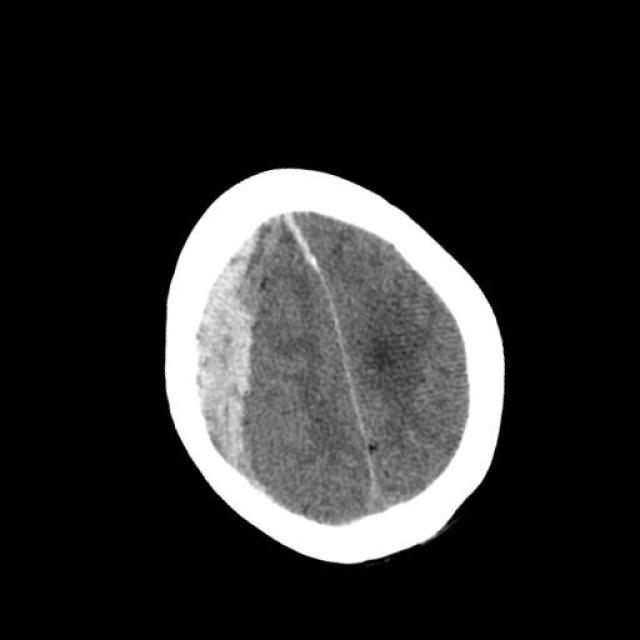Subdural: (137, 224, 334, 512), (279, 202, 349, 302)
